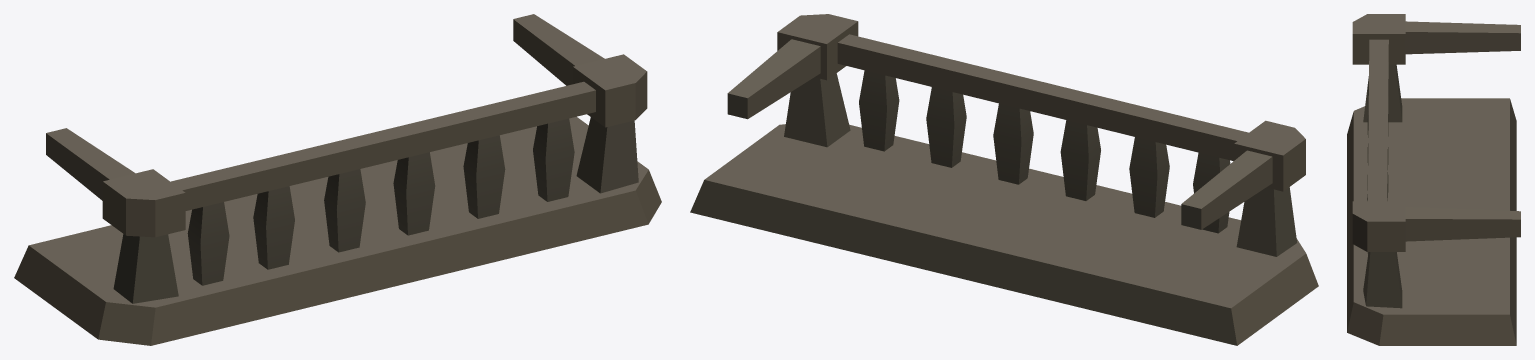
File: Balcony_C1.fbx
3 views of the same model, side by side, from view 1: azimuth 30°, elevation 25°; view 2: azimuth 150°, elevation 25°; view 3: azimuth 270°, elevation 25° (orthographic). The views are drawn at different scales.
Visible parts, largest first — view 1: Balcony_C1; view 2: Balcony_C1; view 3: Balcony_C1.
Part boxes in pixels (x1=…): Balcony_C1: x1=14, y1=14, x2=661, y2=345; Balcony_C1: x1=690, y1=14, x2=1318, y2=345; Balcony_C1: x1=1347, y1=14, x2=1520, y2=345.
Size of the model in its own units: 557 by 133 by 182.
